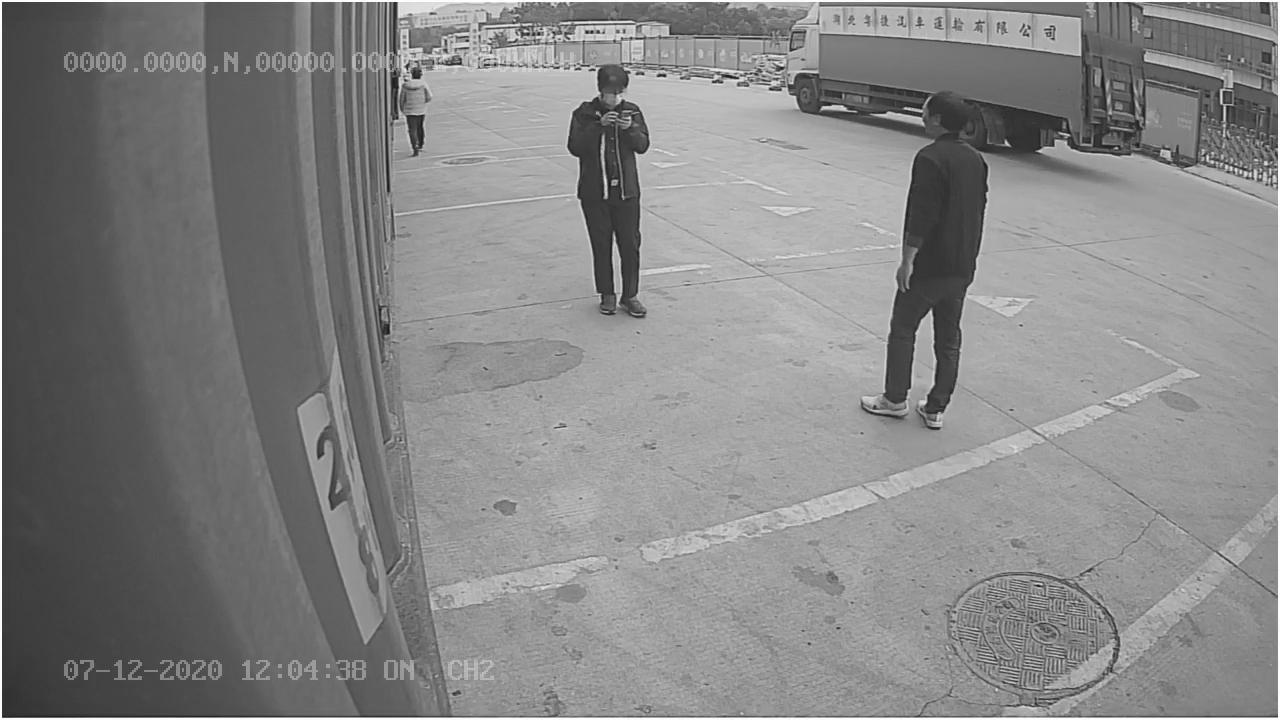person: (567, 61, 654, 317)
